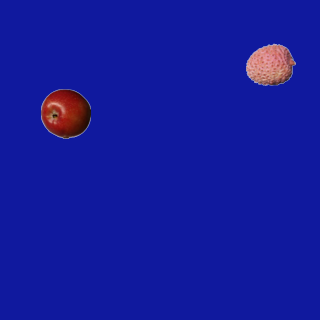Apple Braeburn: (40, 88, 90, 138)
Lychee: (245, 39, 295, 89)
